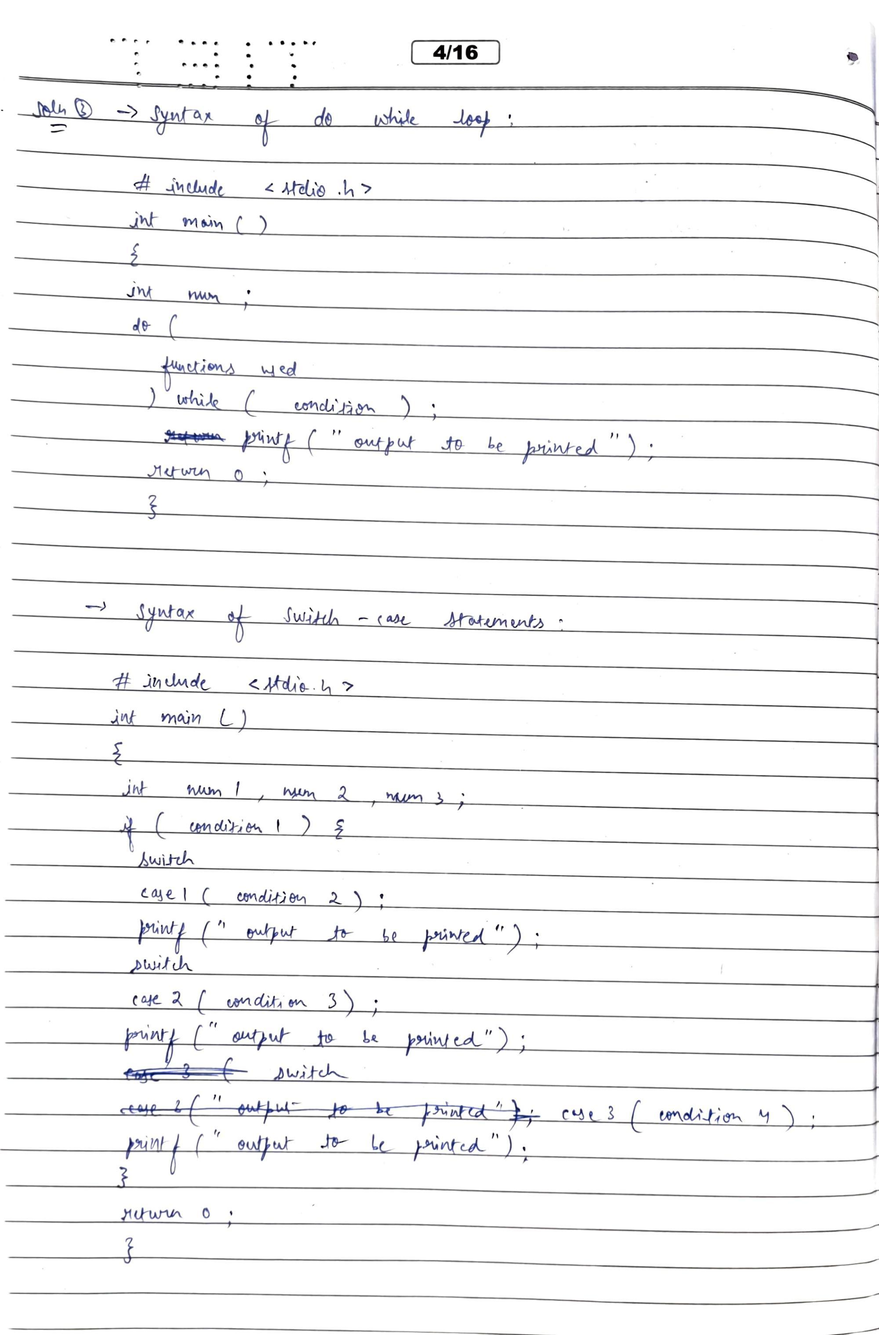cuttings: (118, 1090, 544, 1134), (119, 1054, 251, 1086), (159, 427, 228, 448)
